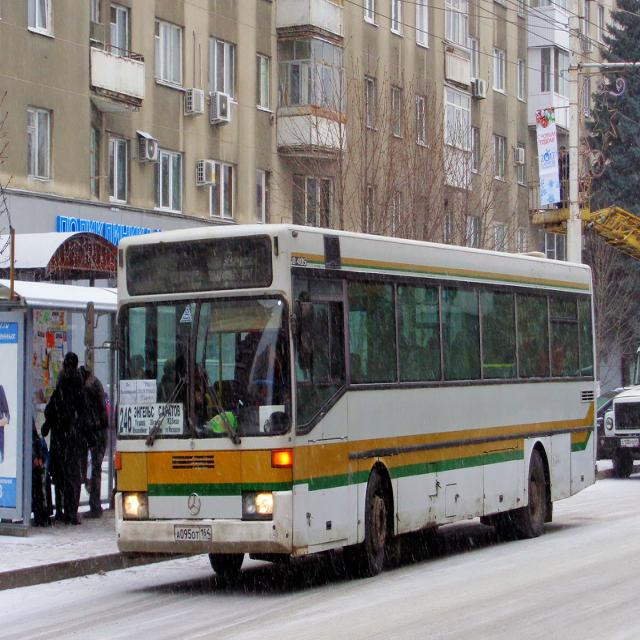number-of-bus: (118, 403, 135, 440)
